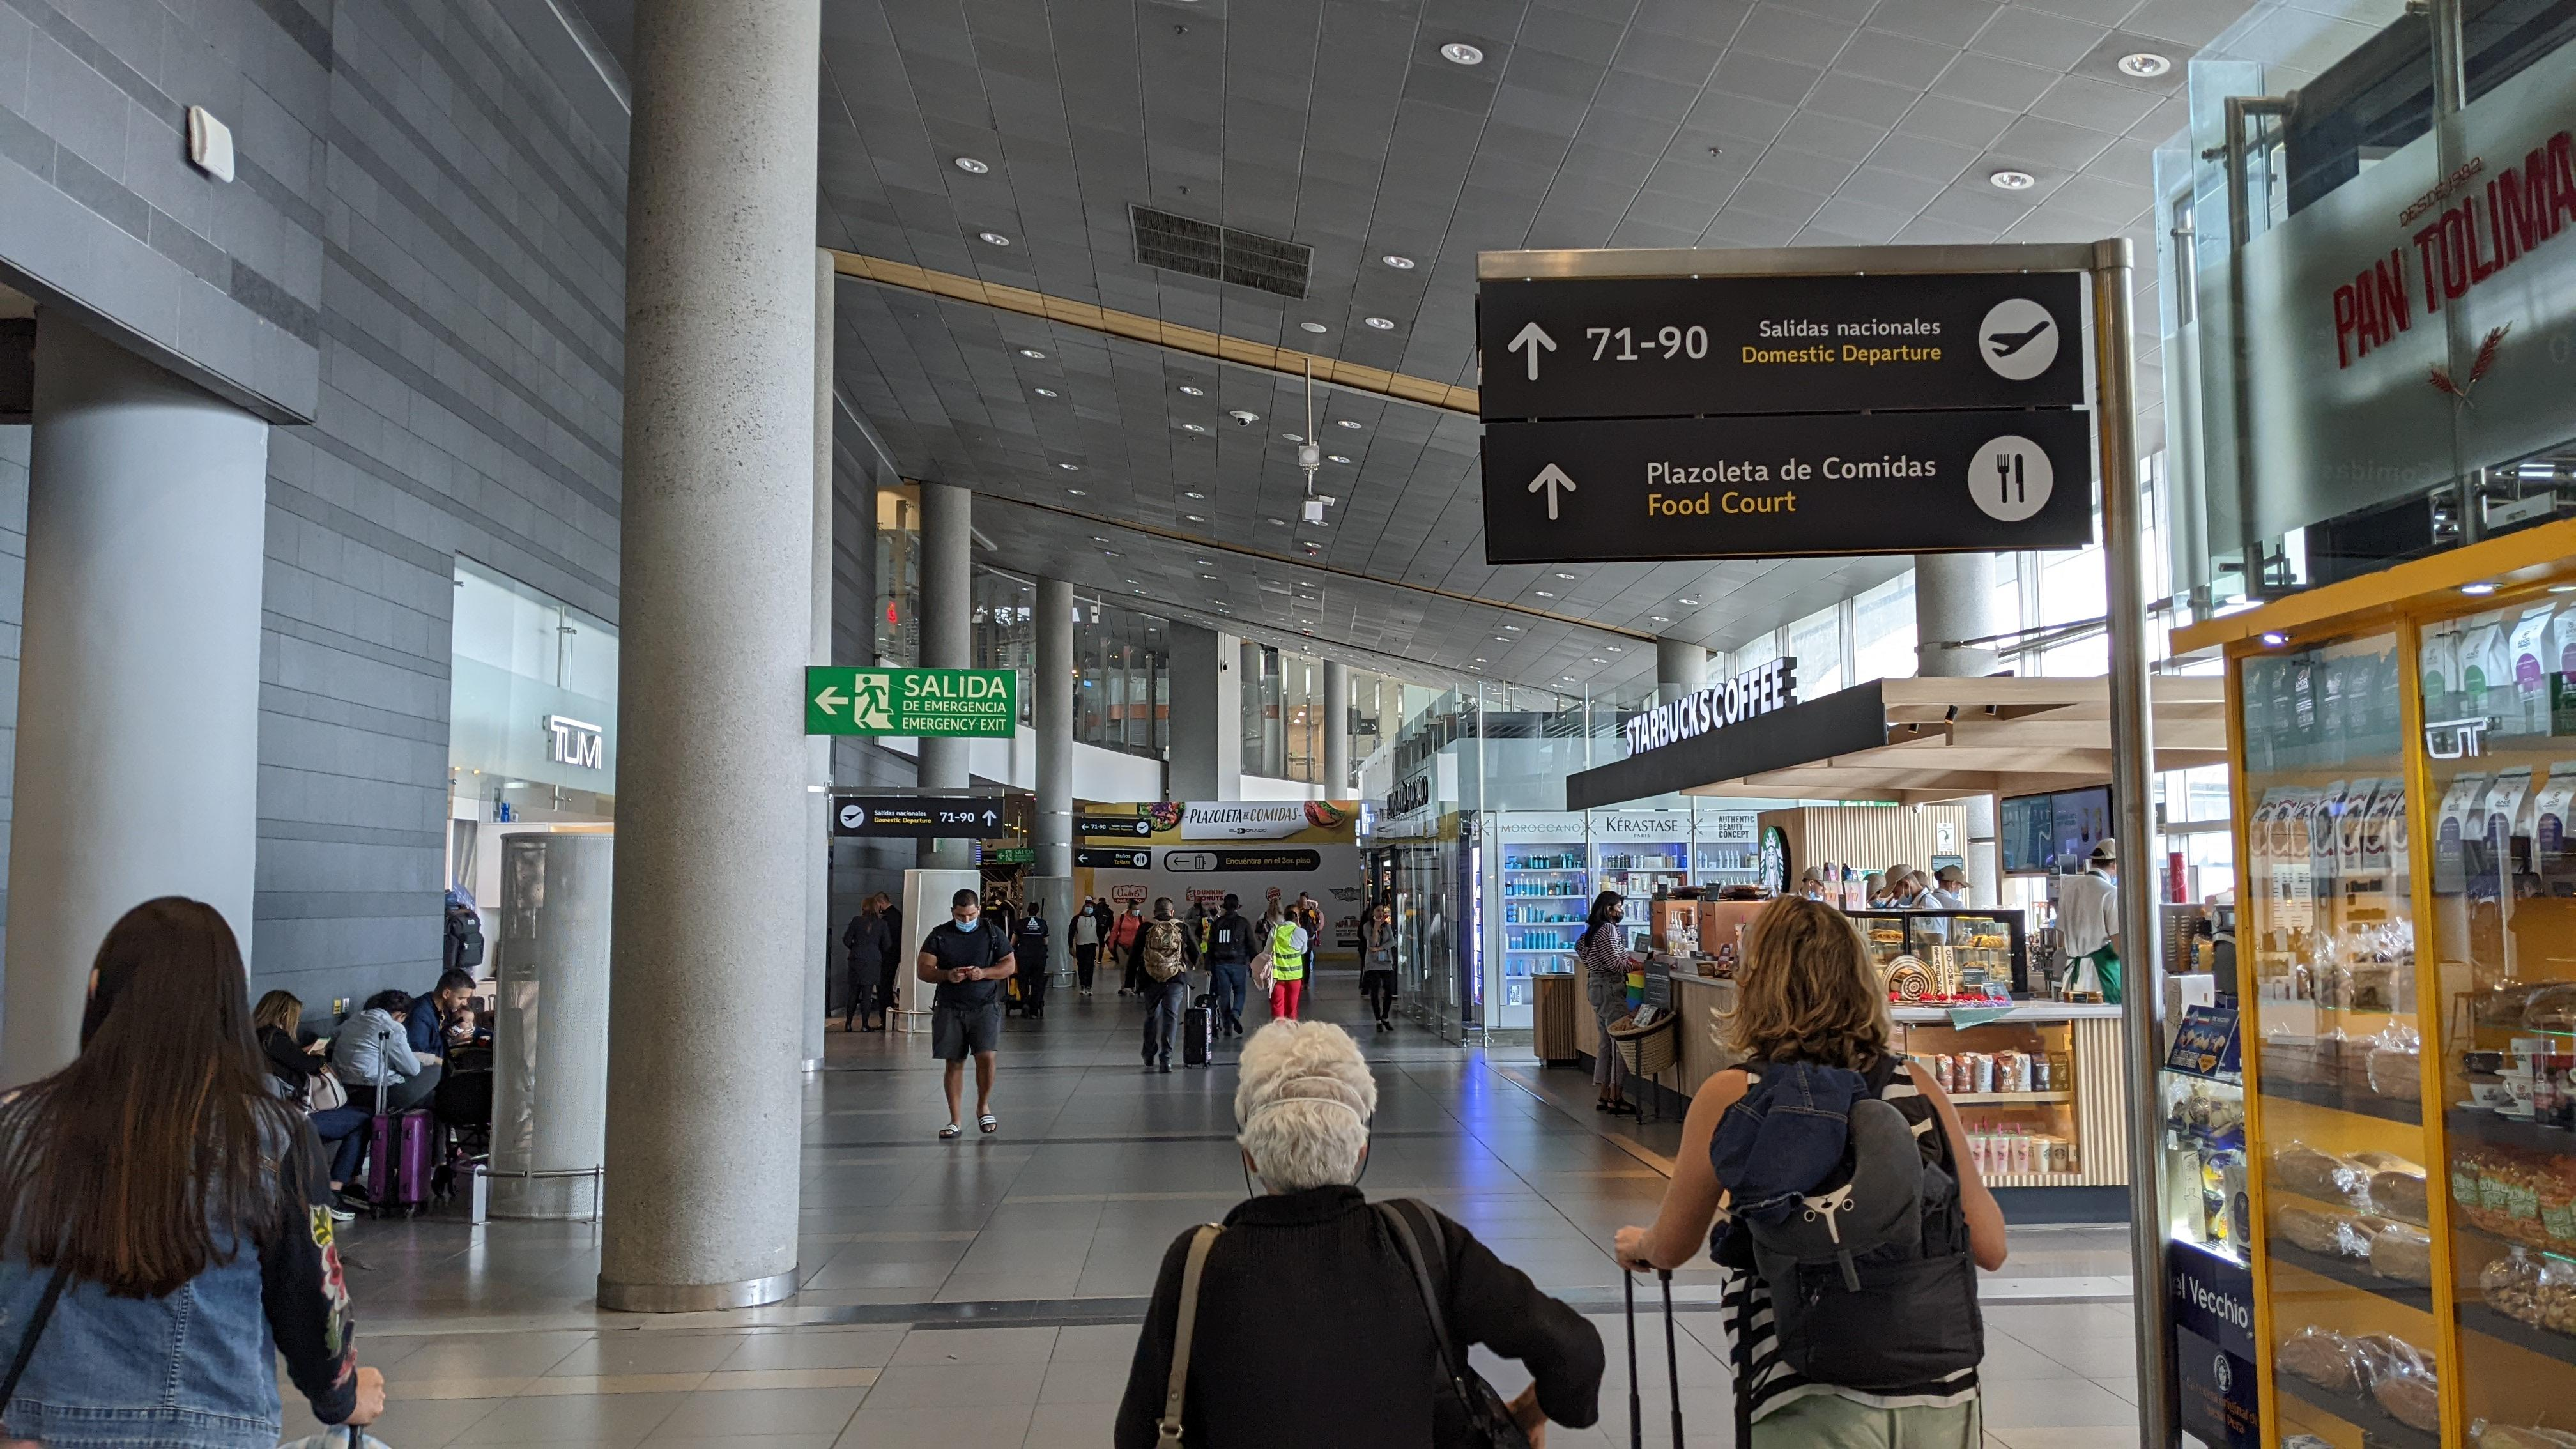airplane symbol: (1985, 318, 2054, 359), (842, 810, 862, 823), (1138, 824, 1146, 832)
bathrooms: (1136, 855, 1145, 865)
emergency exit: (851, 672, 897, 732)
emergency left arrow: (814, 685, 851, 717)
restaurants: (1992, 449, 2029, 506)
up arrow: (1507, 320, 1560, 384), (1527, 462, 1578, 522)
